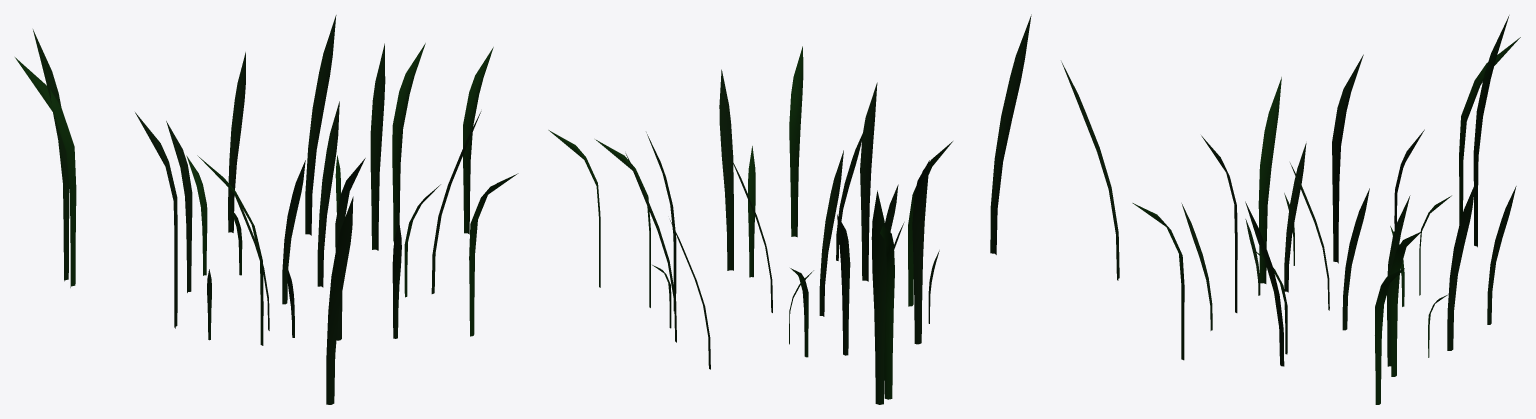
The model's file is Gras4.fbx.
The picture shows the model from 3 angles, left to right: view 1: azimuth 30°, elevation 25°; view 2: azimuth 150°, elevation 25°; view 3: azimuth 270°, elevation 25°; orthographic projection. The views are drawn at different scales.
Visible parts, largest first — view 1: MASH_ReproMesh2; view 2: MASH_ReproMesh2; view 3: MASH_ReproMesh2.
Part boxes in pixels (x1,y1,x2,y2): MASH_ReproMesh2: (15, 15, 518, 404); MASH_ReproMesh2: (548, 14, 1031, 404); MASH_ReproMesh2: (1061, 15, 1520, 404).
Bounding box in the file's own units: 2.37 × 1.32 × 2.45.
